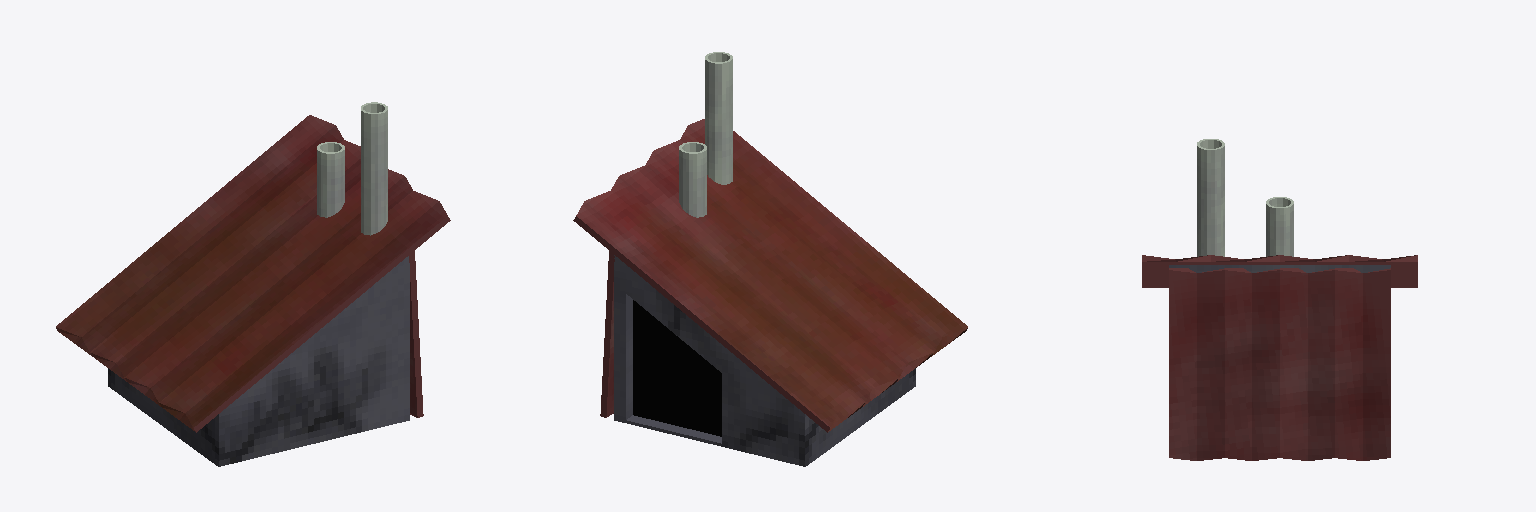
3 renders of one model, left to right at view 1: azimuth 30°, elevation 25°; view 2: azimuth 150°, elevation 25°; view 3: azimuth 270°, elevation 25°, orthographic.
Visible parts, largest first — view 1: cuboid, tube; view 2: cuboid, tube; view 3: cuboid, tube.
Part boxes in pixels (left/top/right/bottom): cuboid: left=56, top=115, right=450, bottom=466; tube: left=317, top=102, right=387, bottom=235; cuboid: left=573, top=119, right=967, bottom=466; tube: left=679, top=52, right=732, bottom=217; cuboid: left=1142, top=255, right=1417, bottom=460; tube: left=1197, top=139, right=1293, bottom=256.
Size of the model in its own units: 1.37 by 1.52 by 1.25.
1 materials, 1 textured.